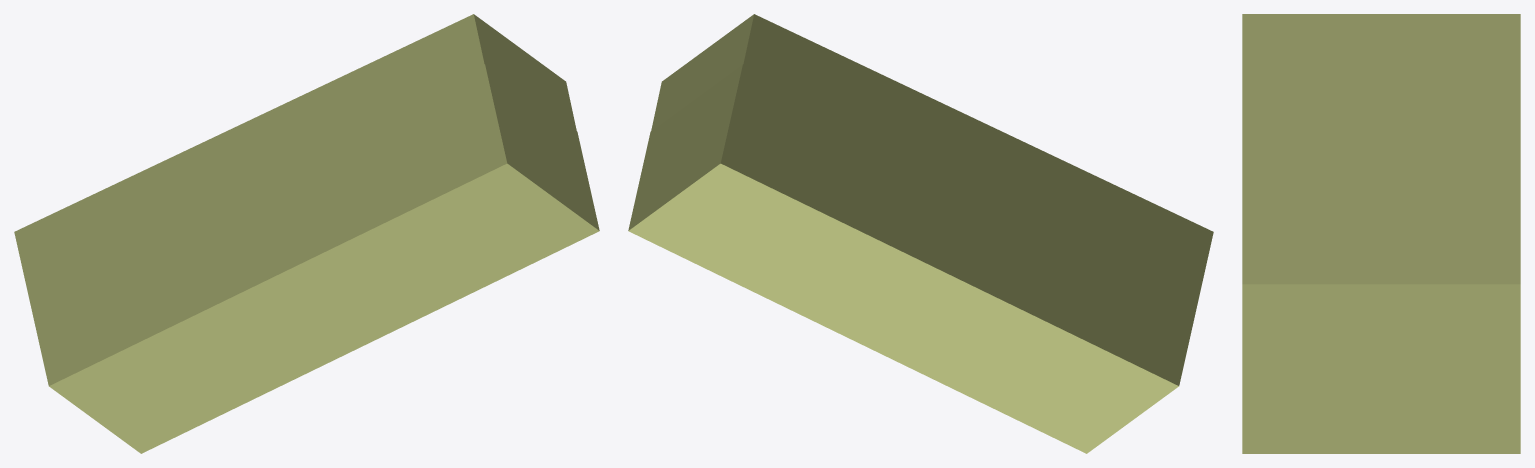
The picture shows the model from 3 angles, left to right: view 1: azimuth 30°, elevation 25°; view 2: azimuth 150°, elevation 25°; view 3: azimuth 270°, elevation 25°; orthographic projection. The views are drawn at different scales.
Visible parts, largest first — view 1: 0_1_2_0_1_3_0_3_0_1; view 2: 0_1_2_0_1_3_0_3_0_1; view 3: 0_1_2_0_1_3_0_3_0_1.
Boxes of the visible parts, x1,y1,x2,y2 form: 0_1_2_0_1_3_0_3_0_1: (14, 14, 599, 453); 0_1_2_0_1_3_0_3_0_1: (628, 14, 1213, 453); 0_1_2_0_1_3_0_3_0_1: (1242, 14, 1520, 453).
Size of the model in its own units: 18.48 by 9.62 by 6.
